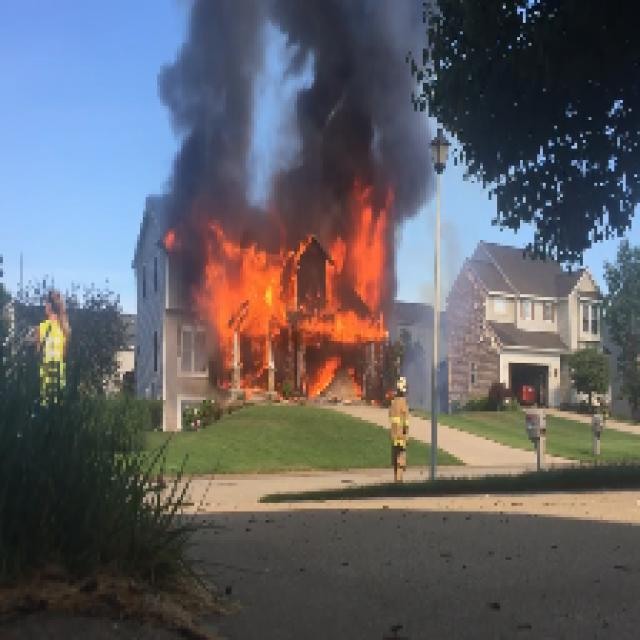fire: (204, 236, 389, 340)
smoke: (308, 6, 412, 204), (190, 5, 247, 216)
